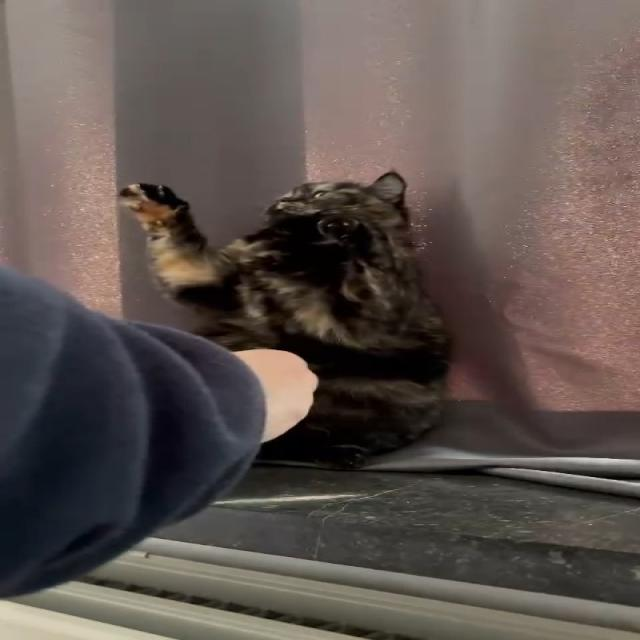authorized: (117, 170, 455, 469)
